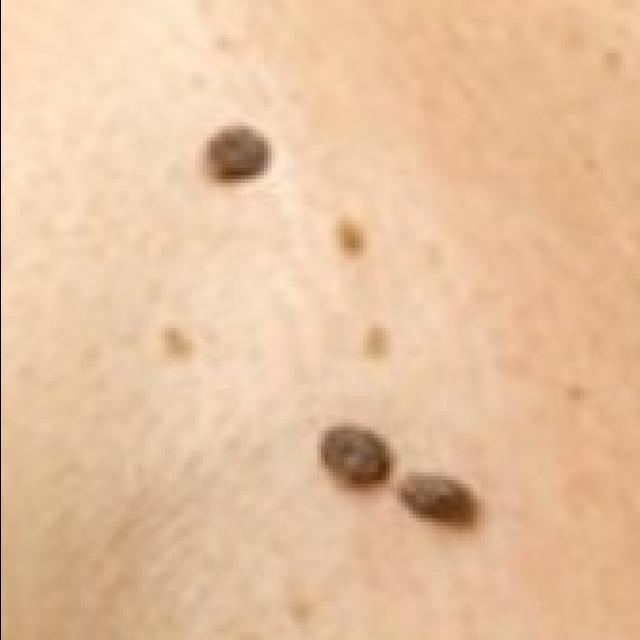wart: (320, 422, 396, 488), (210, 122, 274, 190), (408, 472, 480, 526)
